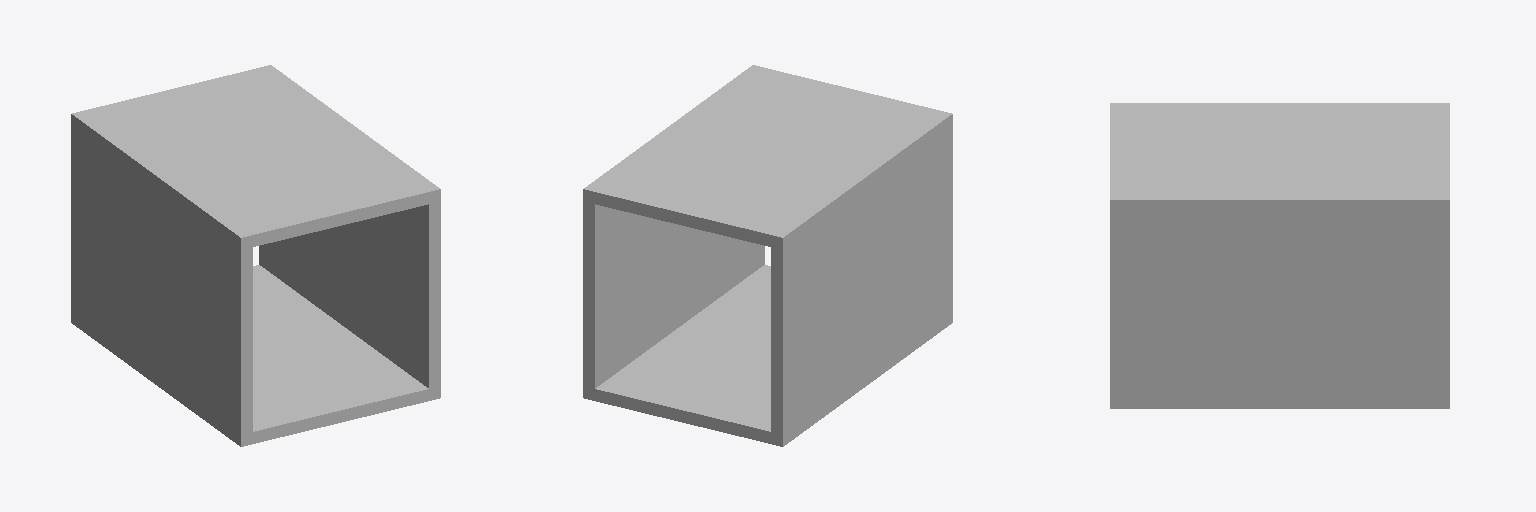
Rendered from lobby.obj.
3 views of the same model, side by side, from view 1: azimuth 30°, elevation 25°; view 2: azimuth 150°, elevation 25°; view 3: azimuth 270°, elevation 25° (orthographic).
Visible parts, largest first — view 1: default; view 2: default; view 3: default.
Part boxes in pixels (x1,y1,x2,y2): default: (71, 65, 440, 446); default: (583, 65, 952, 446); default: (1110, 103, 1449, 408).
Size of the model in its own units: 6.8 by 6.8 by 10.